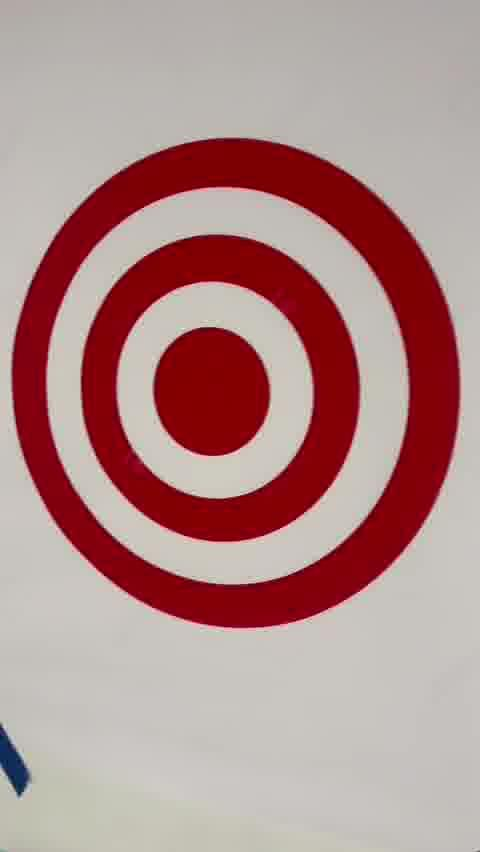target_red: (13, 137, 462, 631)
